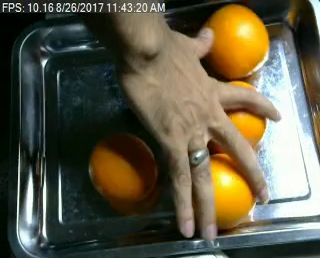Orange: (199, 4, 271, 79)
